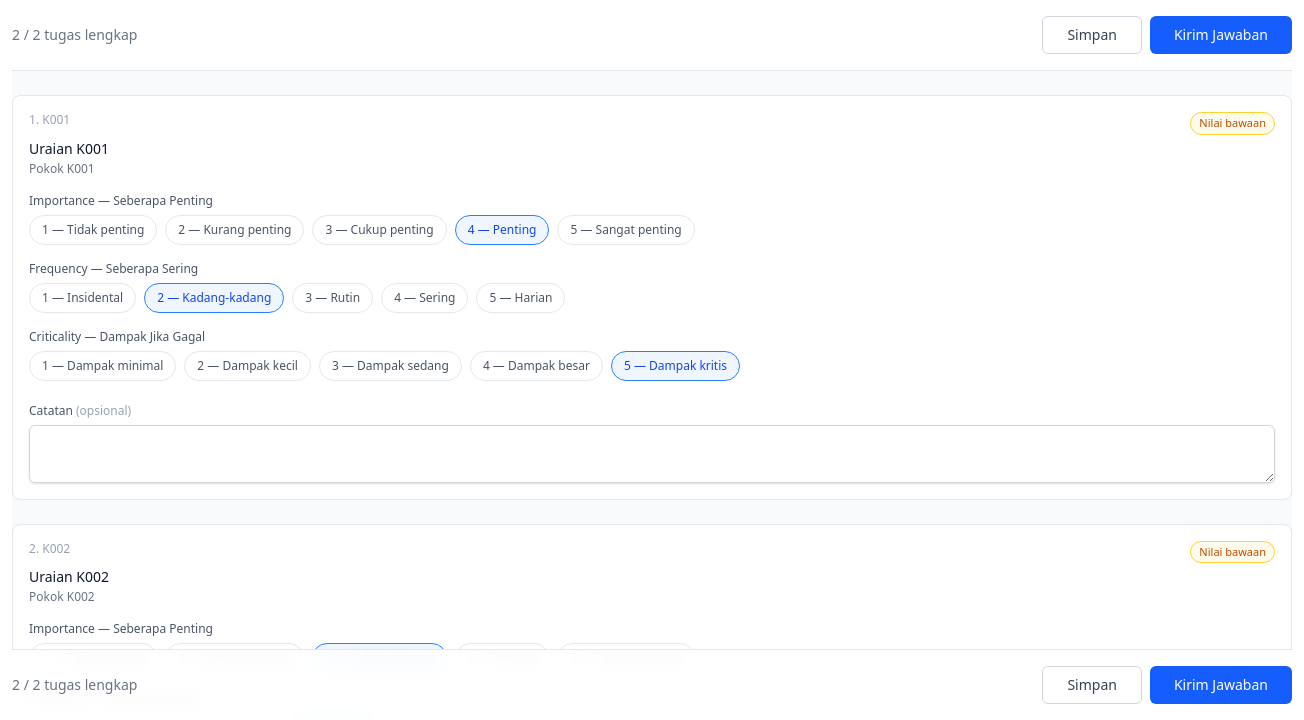
it: OpmForm — prefill nilai standar & penanda nilai bawaan (issue #48) › mengubah satu dimensi menghilangkan badge bawaan HANYA pada task itu — task lain tidak terpengaruh
Expected: the text "Nilai bawaan" is shown 2 times, [1190,112,1275,134]; [1190,540,1275,563]
Click the radio button named "K001-importance".
click(626, 230)  # box [558,214,695,244]
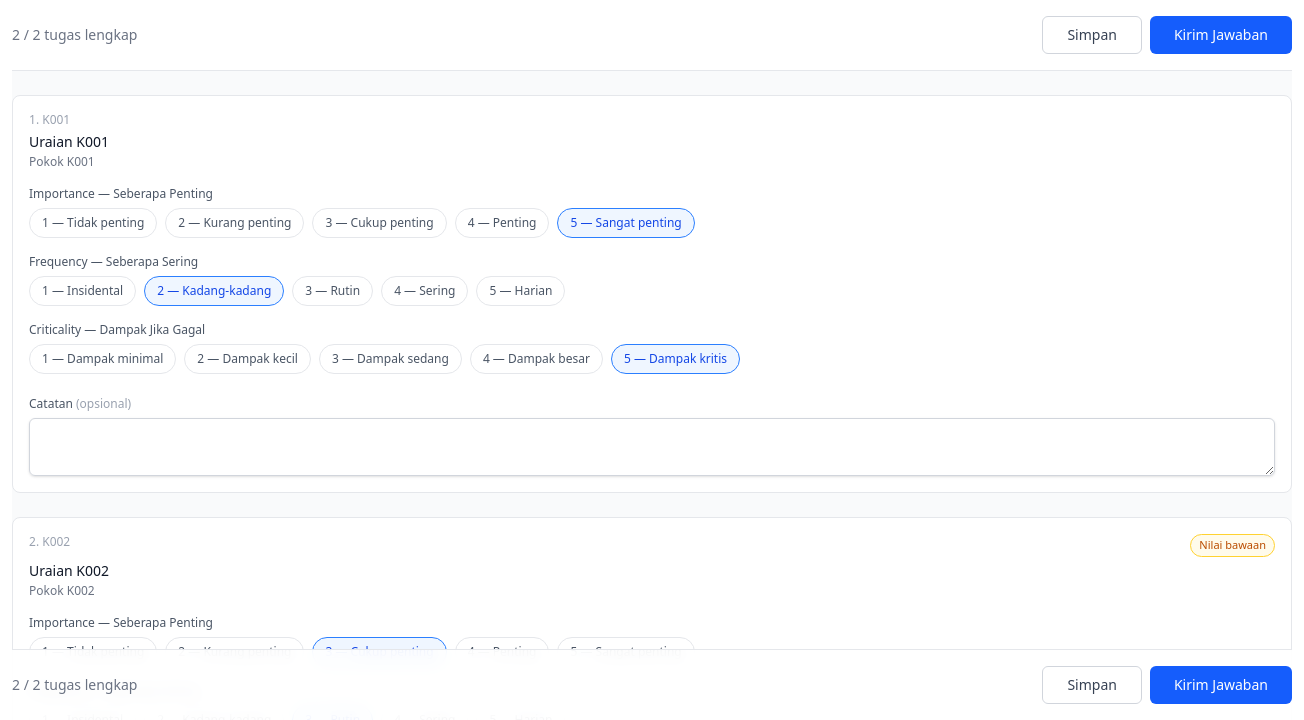
Result: the text "Nilai bawaan" is shown once at [1190,534,1275,556]
